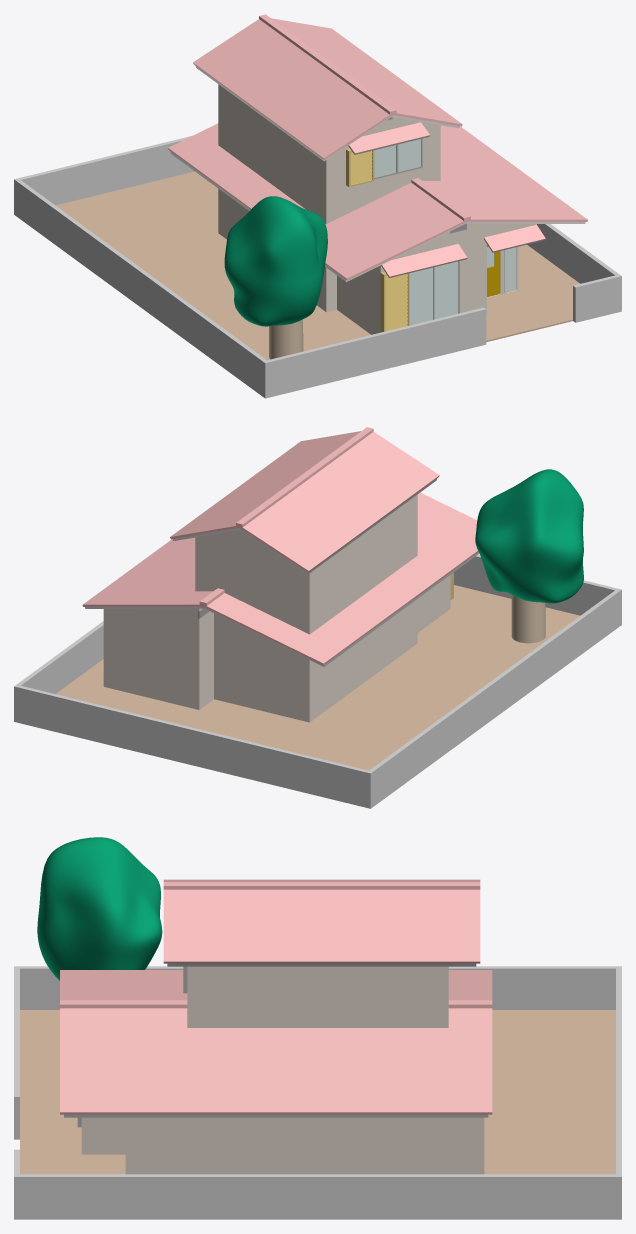
3 renders of one model, top to bottom at view 1: azimuth 30°, elevation 25°; view 2: azimuth 150°, elevation 25°; view 3: azimuth 270°, elevation 25°, orthographic. The views are drawn at different scales.
Visible parts, largest first — view 1: 038_House_Nobi; view 2: 038_House_Nobi; view 3: 038_House_Nobi.
Boxes of the visible parts, x1=… form: 038_House_Nobi: x1=14, y1=14, x2=621, y2=398; 038_House_Nobi: x1=14, y1=427, x2=621, y2=808; 038_House_Nobi: x1=14, y1=837, x2=621, y2=1219.
Size of the model in its own units: 0.25 by 0.1313 by 0.305.
